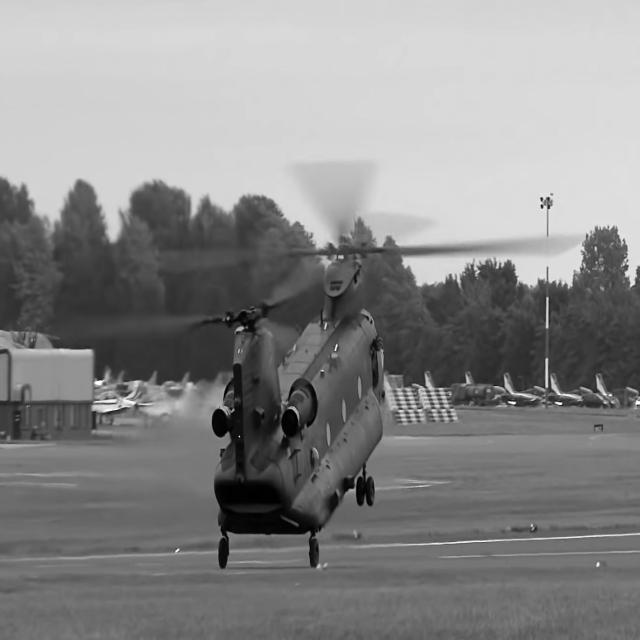Helicopter: (214, 246, 384, 565)
